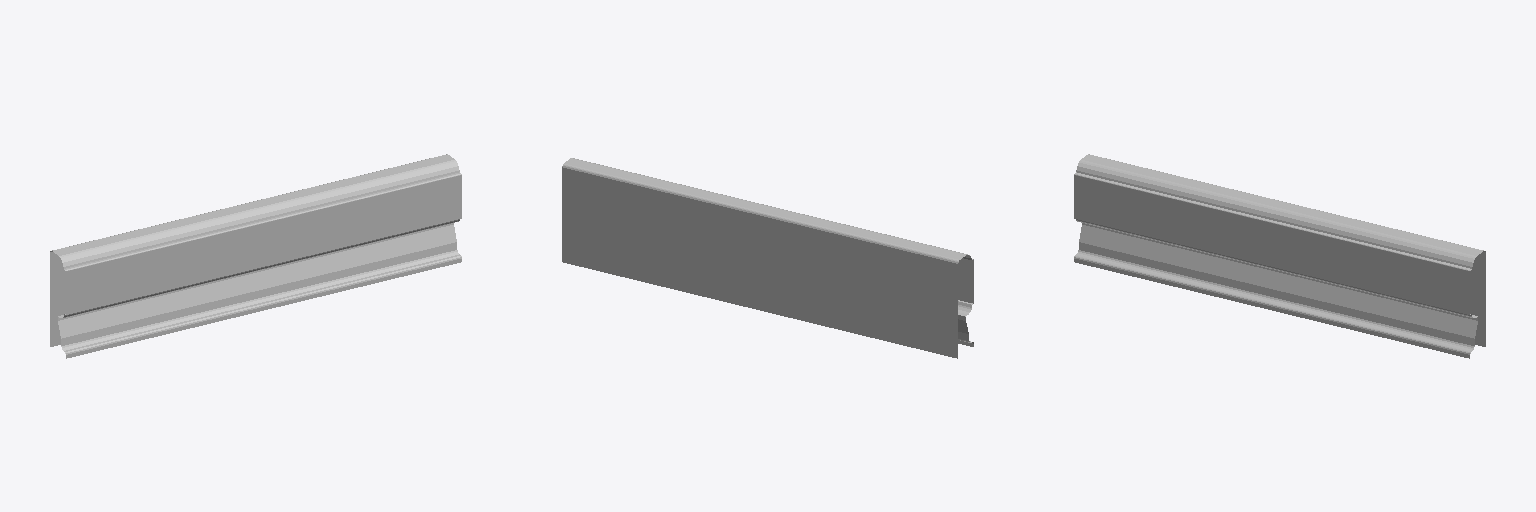
The model's file is original-71.obj.
3 views of the same model, side by side, from view 1: azimuth 30°, elevation 25°; view 2: azimuth 150°, elevation 25°; view 3: azimuth 330°, elevation 25° (orthographic).
Visible parts, largest first — view 1: DF_11_TC2/DF_11_TC/mesh28/mesh28-geometry#mesh28-geometry; view 2: DF_11_TC2/DF_11_TC/mesh28/mesh28-geometry#mesh28-geometry; view 3: DF_11_TC2/DF_11_TC/mesh28/mesh28-geometry#mesh28-geometry.
Boxes of the visible parts, <box> form: DF_11_TC2/DF_11_TC/mesh28/mesh28-geometry#mesh28-geometry: <box>50,154,461,358</box>; DF_11_TC2/DF_11_TC/mesh28/mesh28-geometry#mesh28-geometry: <box>562,158,973,358</box>; DF_11_TC2/DF_11_TC/mesh28/mesh28-geometry#mesh28-geometry: <box>1074,154,1485,358</box>.
Size of the model in its own units: 0.3955 by 0.0933 by 0.027.